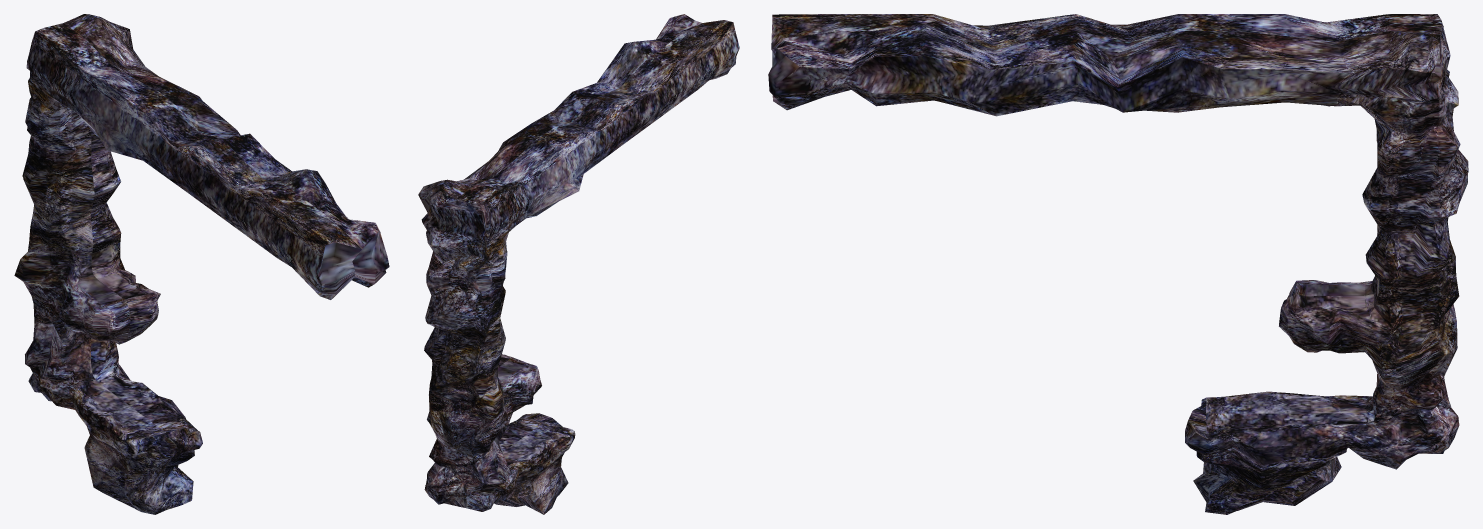
The model's file is Plataforma principal.fbx.
3 renders of one model, left to right at view 1: azimuth 30°, elevation 25°; view 2: azimuth 150°, elevation 25°; view 3: azimuth 270°, elevation 25°, orthographic. The views are drawn at different scales.
Parts seen in each view (by area): view 1: PrincipalPlatform; view 2: PrincipalPlatform; view 3: PrincipalPlatform.
Part boxes in pixels (x1,y1,x2,y2): PrincipalPlatform: (14, 14, 389, 514); PrincipalPlatform: (418, 14, 739, 514); PrincipalPlatform: (768, 14, 1468, 514).
Size of the model in its own units: 808 by 3270 by 4190.
